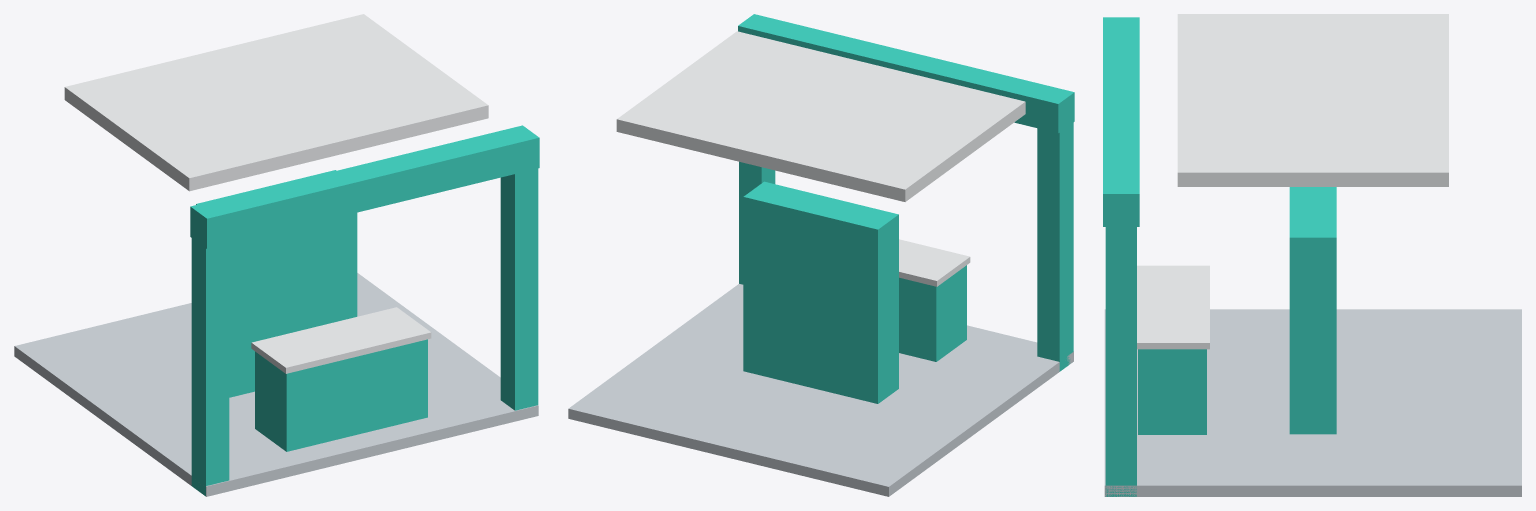
3 renders of one model, left to right at view 1: azimuth 30°, elevation 25°; view 2: azimuth 150°, elevation 25°; view 3: azimuth 270°, elevation 25°, orthographic. The views are drawn at different scales.
Visible parts, largest first — view 1: Exhibition Booth Concept; view 2: Exhibition Booth Concept; view 3: Exhibition Booth Concept.
Part boxes in pixels (x1,y1,x2,y2): Exhibition Booth Concept: [14, 14, 539, 496]; Exhibition Booth Concept: [568, 14, 1074, 496]; Exhibition Booth Concept: [1103, 14, 1521, 496].
Bounding box in the file's own units: 4 × 3.34 × 4.02.
